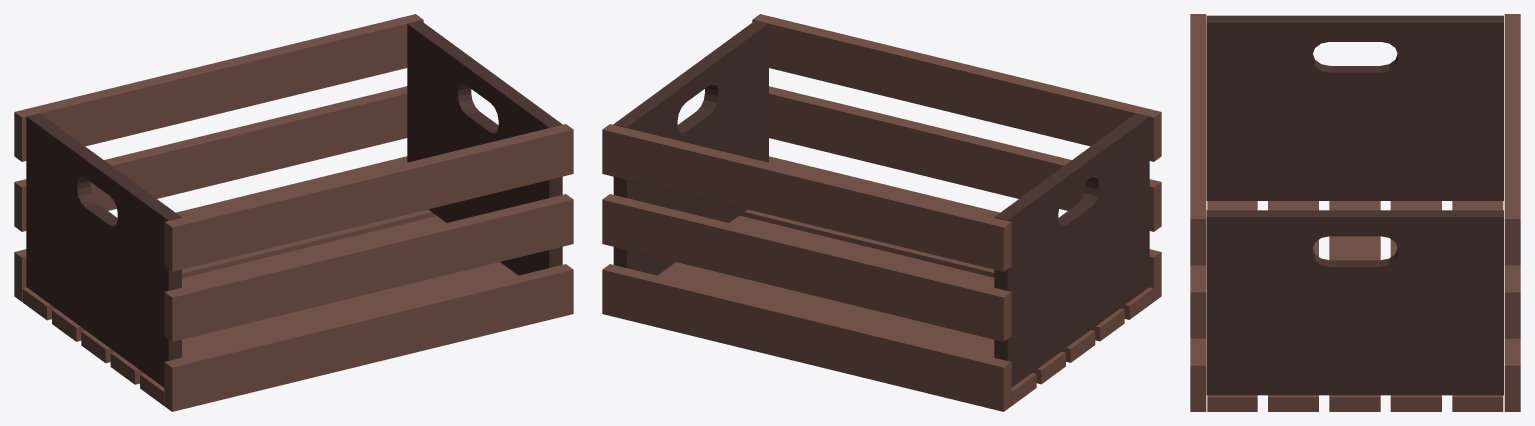
The model's file is Storage unit called box.fbx.
3 views of the same model, side by side, from view 1: azimuth 30°, elevation 25°; view 2: azimuth 150°, elevation 25°; view 3: azimuth 270°, elevation 25° (orthographic). The views are drawn at different scales.
Visible parts, largest first — view 1: Cube.028; view 2: Cube.028; view 3: Cube.028.
Part boxes in pixels (x1,y1,x2,y2): Cube.028: (14,14,573,411); Cube.028: (602,14,1161,411); Cube.028: (1190,14,1520,411).
Size of the model in its own units: 1.38 by 0.6061 by 0.9393.
